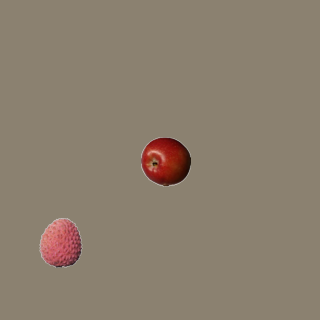Apple Braeburn: (140, 136, 190, 186)
Lychee: (35, 217, 85, 267)
